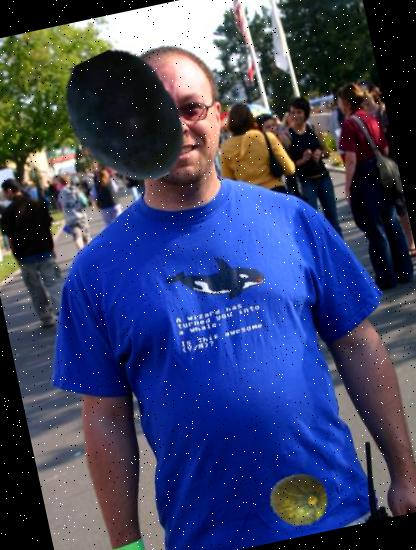Blueberry: (42, 36, 207, 201)
Melon: (264, 463, 336, 535)
